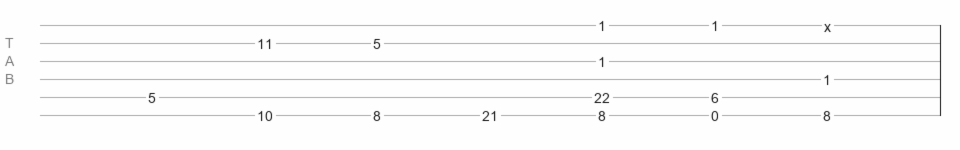0: (711, 108, 719, 118)
1: (598, 18, 606, 28), (598, 54, 606, 64), (711, 18, 719, 28), (823, 72, 831, 82)
10: (257, 108, 273, 118)
11: (257, 36, 273, 46)
21: (482, 108, 498, 118)
22: (594, 90, 610, 100)
5: (148, 90, 156, 100), (373, 36, 381, 46)
6: (711, 90, 719, 100)
8: (373, 108, 381, 118), (598, 108, 606, 118), (823, 108, 831, 118)
x: (824, 19, 831, 27)
